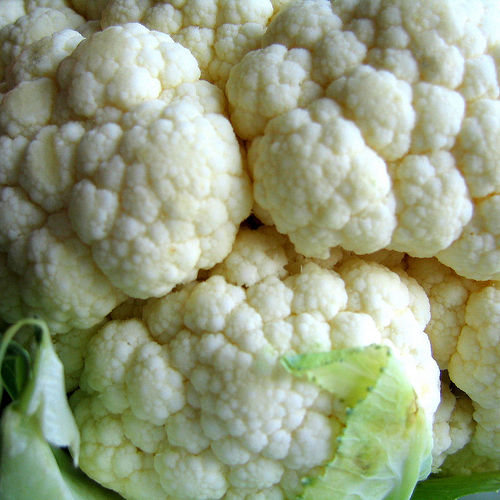cauliflower: (0, 2, 498, 498)
